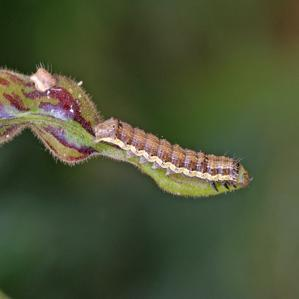Cotton bollworm: (85, 90, 259, 204)
